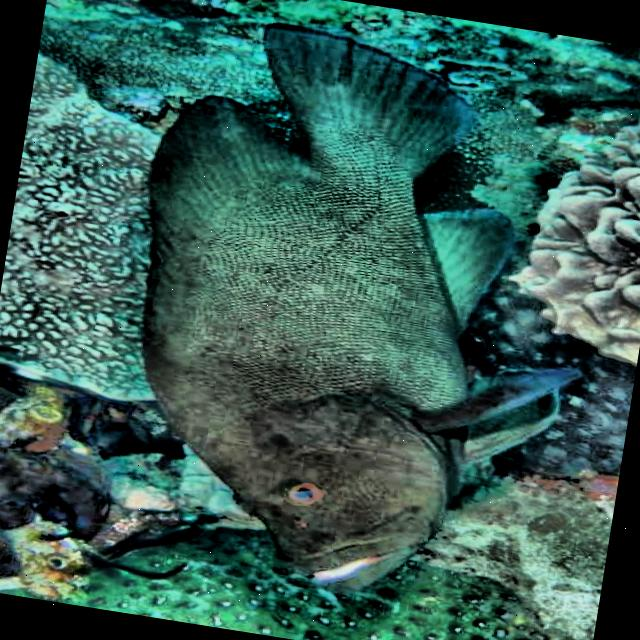fish: (92, 5, 630, 622)
